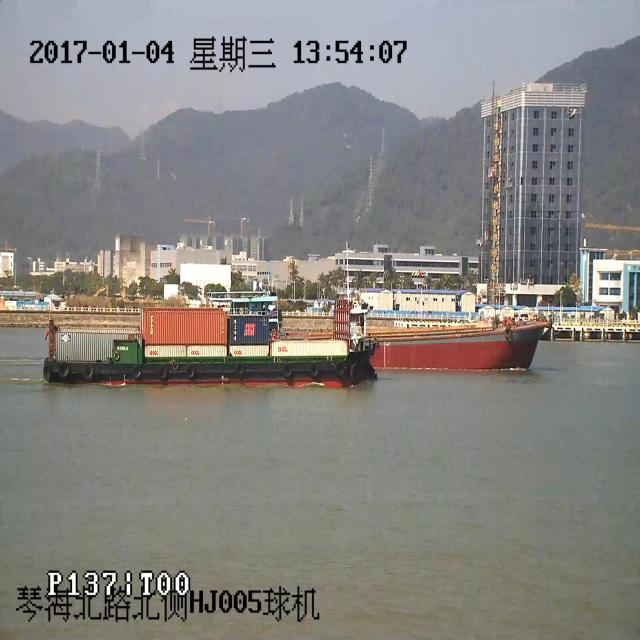cargoship: (34, 279, 372, 387), (370, 283, 567, 382)
